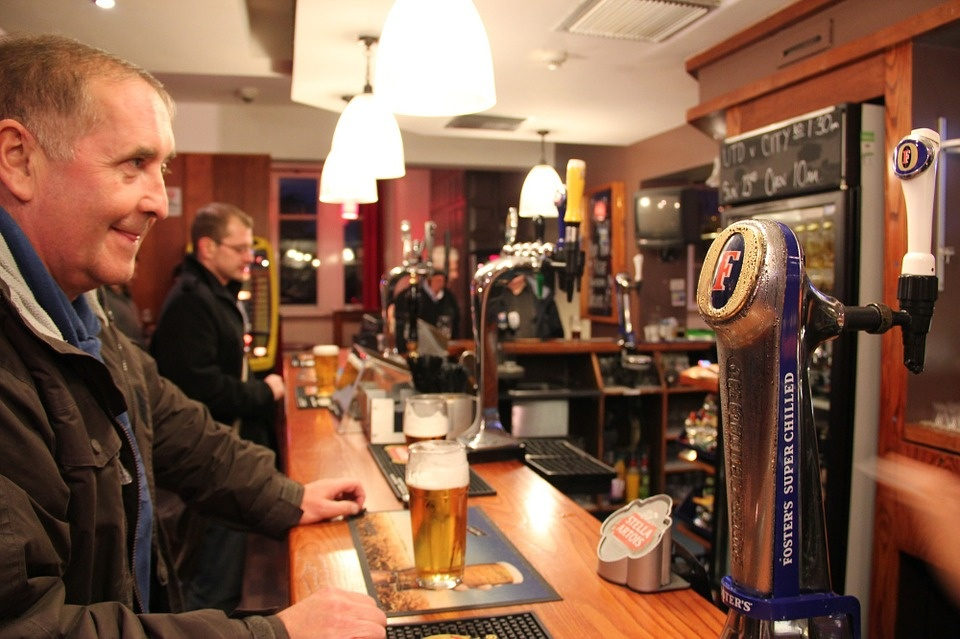glassBeer: (410, 437, 470, 583)
